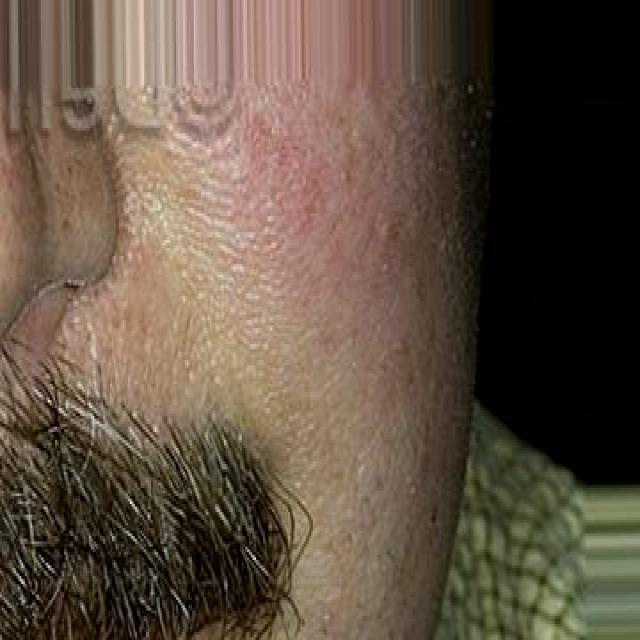Rosacea: (237, 126, 434, 358)
